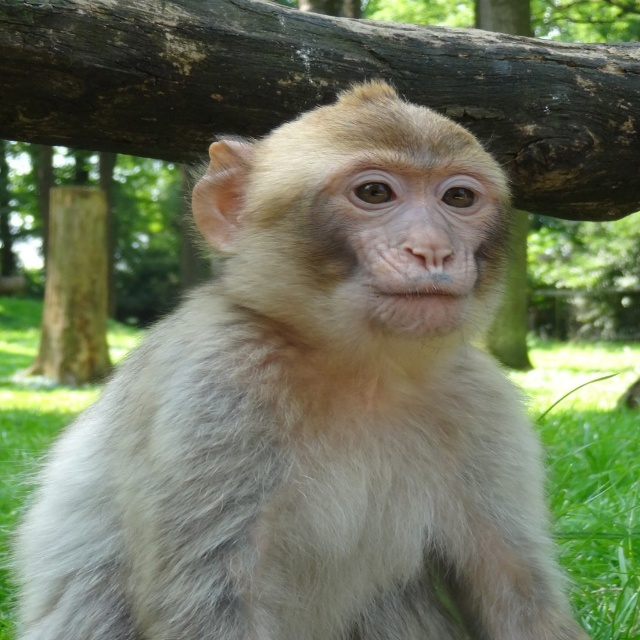Monkey: (0, 75, 594, 640)
